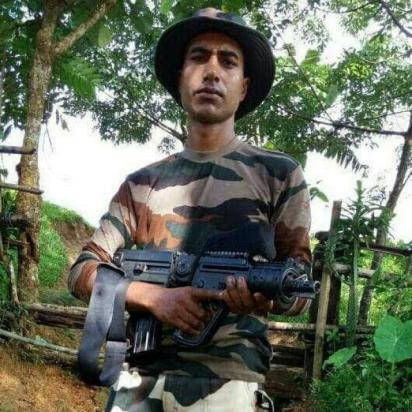Gun: (108, 247, 323, 359)
